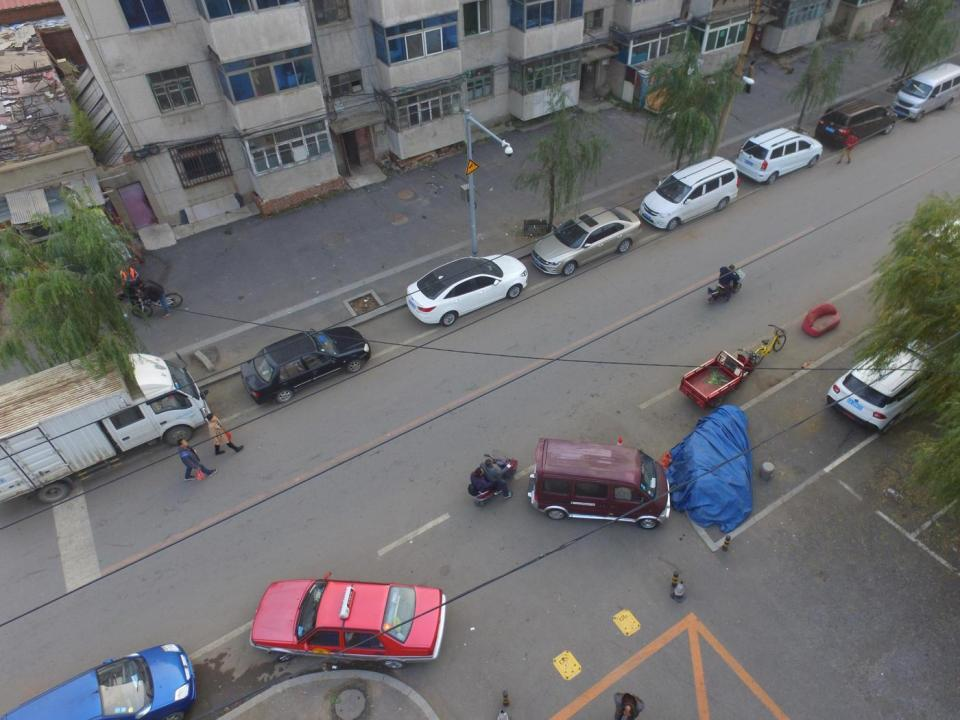car: (250, 571, 446, 670), (0, 642, 196, 720), (827, 327, 958, 434), (241, 325, 371, 404), (405, 254, 529, 326), (530, 206, 641, 277)
truck: (0, 348, 213, 506)
van: (526, 438, 670, 530), (638, 155, 740, 231), (733, 127, 824, 185), (888, 62, 960, 122), (816, 97, 898, 148)
